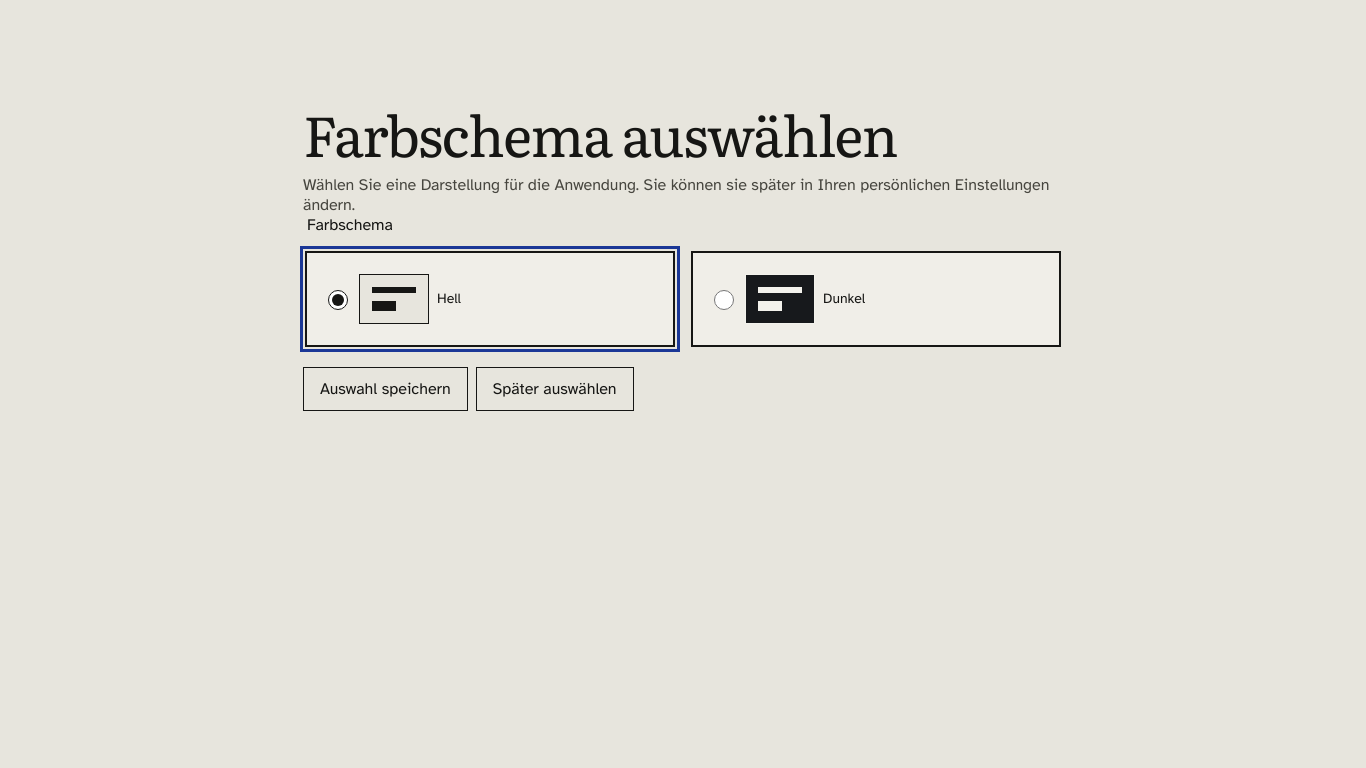
Test case: appearance onboarding routes › keeps a direct settings URL with query parameters after onboarding
Expected: the heading "Farbschema auswählen" is shown, [303,91,897,174]
Click the button "Später auswählen" at (555, 389), box [476,367,634,411]
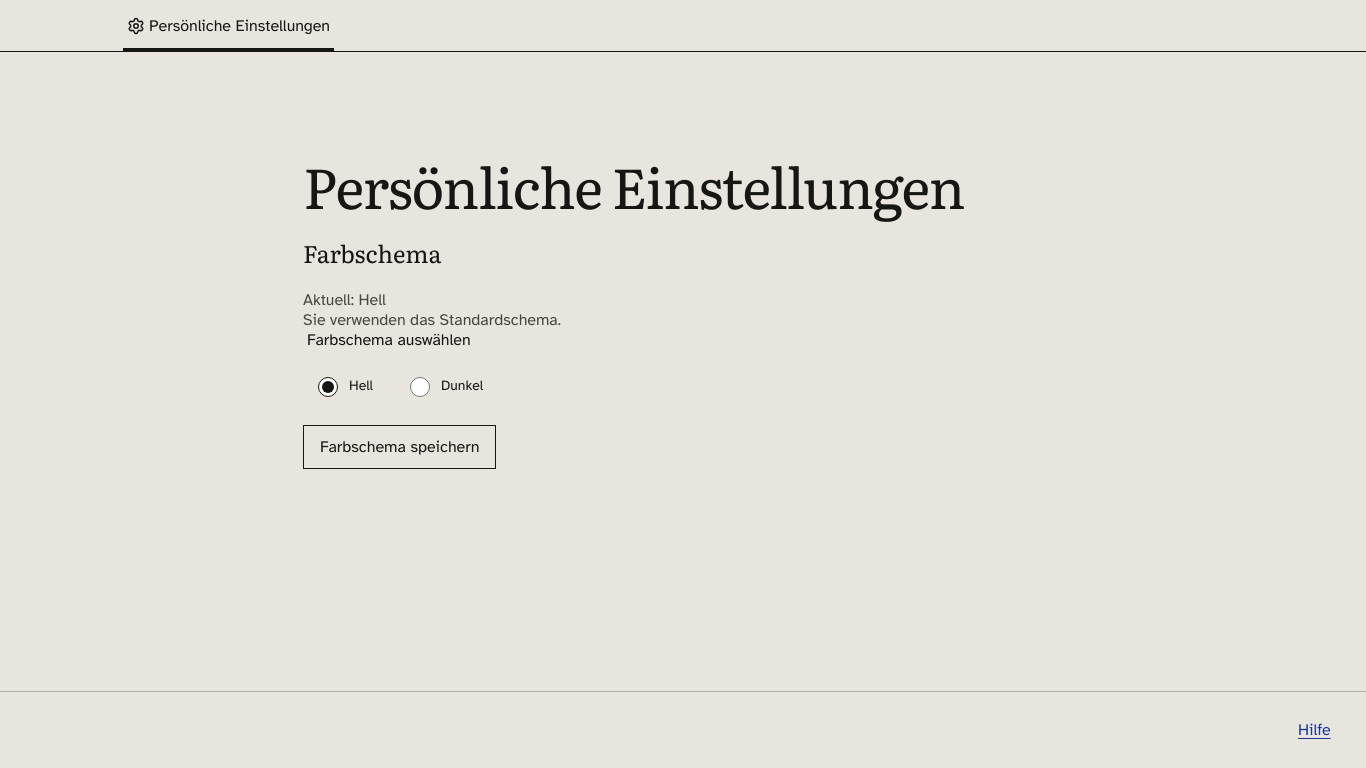
Now the heading "Persönliche Einstellungen" is shown, box [303,156,1063,215]
